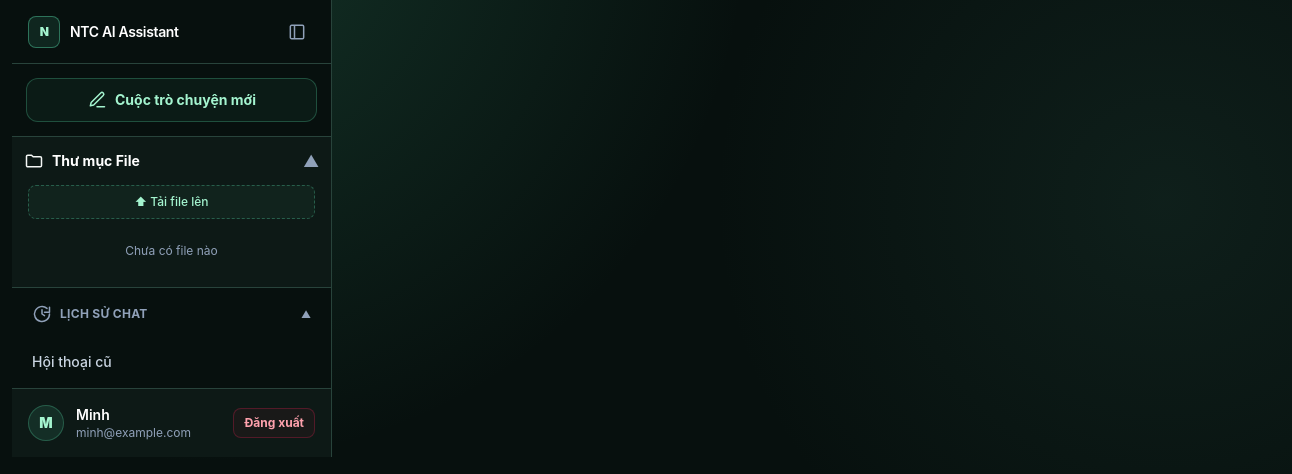
Test: Sidebar navigation › places files below new chat and supports collapsed icon navigation
Expected: the text "Hội thoại cũ" is shown, [32, 353, 112, 370]
Click the button named "Thu gọn thanh bên": (297, 32) [279, 14, 315, 50]
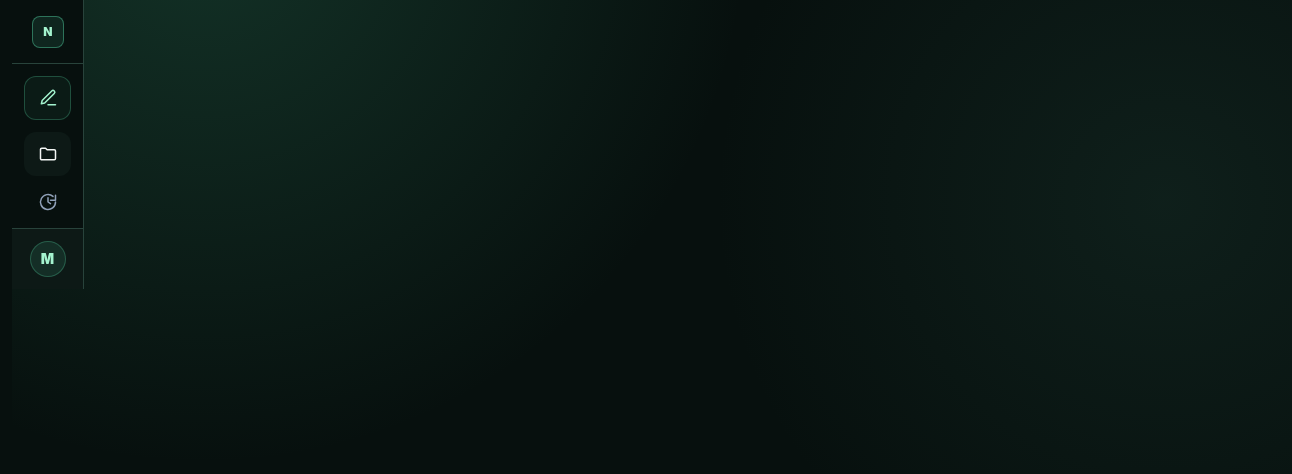
Result: the text "NTC AI Assistant" is gone
Result: the text "Hội thoại cũ" is gone
Click the button titled "Lịch sử chat": (48, 202) [24, 180, 71, 224]
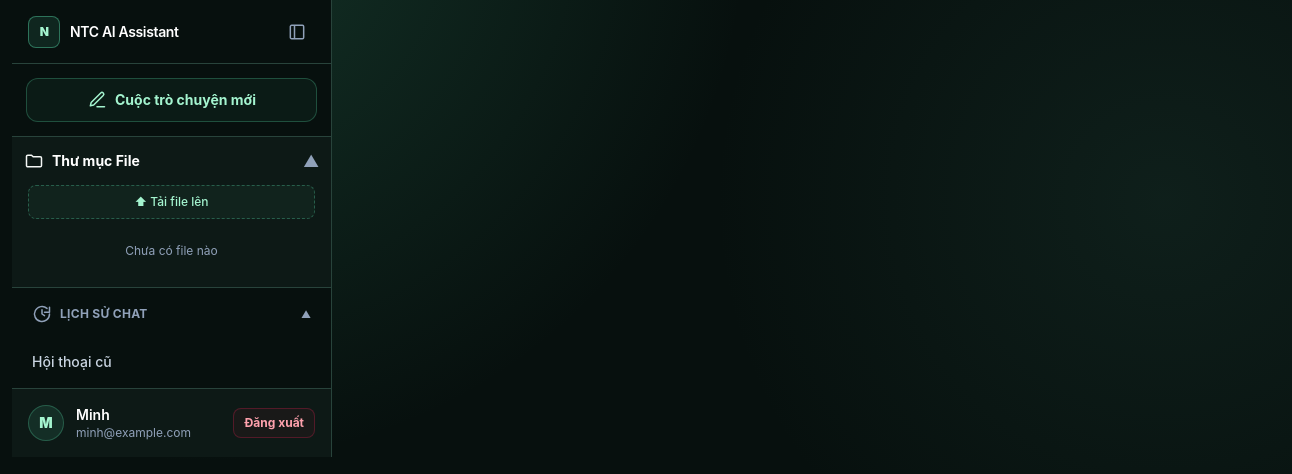
Result: the text "NTC AI Assistant" is shown at [70, 22, 179, 42]
Result: the text "Hội thoại cũ" is shown at [32, 353, 112, 370]
